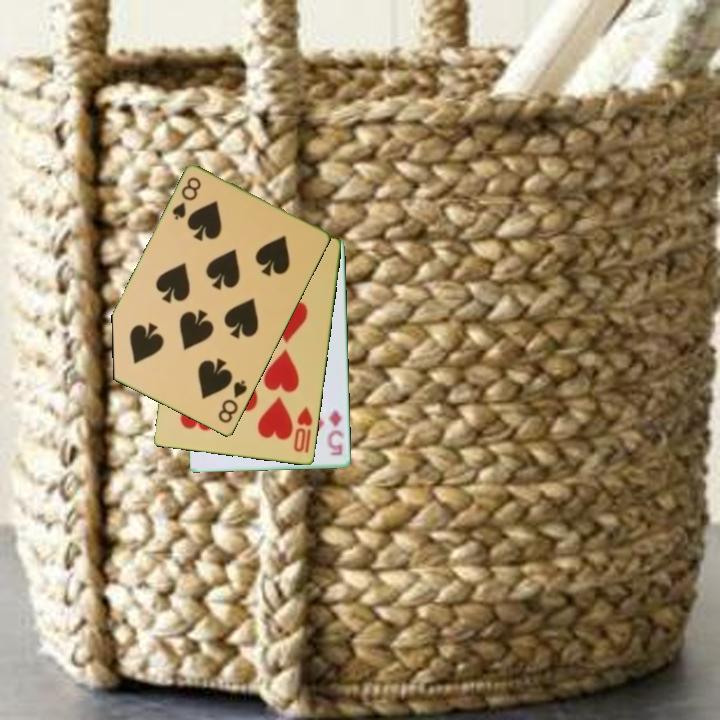10h: (290, 403, 316, 455)
5d: (324, 406, 347, 459)
8s: (215, 377, 250, 426), (169, 174, 204, 223)
